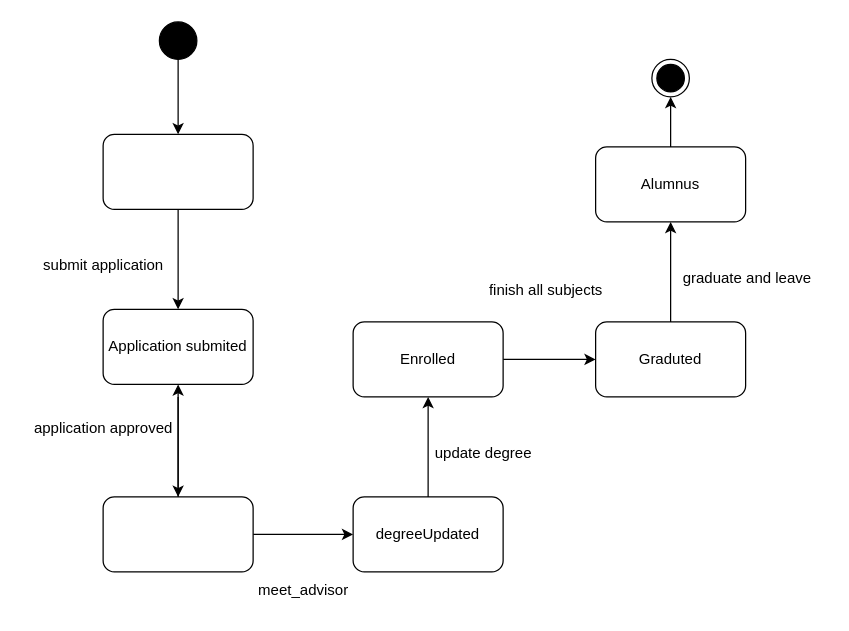
Image size: 849x631. Some labels were removed from this diagram. Each missing label, with the centre of its shape:
"Approved" belongs at (x=177, y=534).
"potential Student" belongs at (x=177, y=171).
